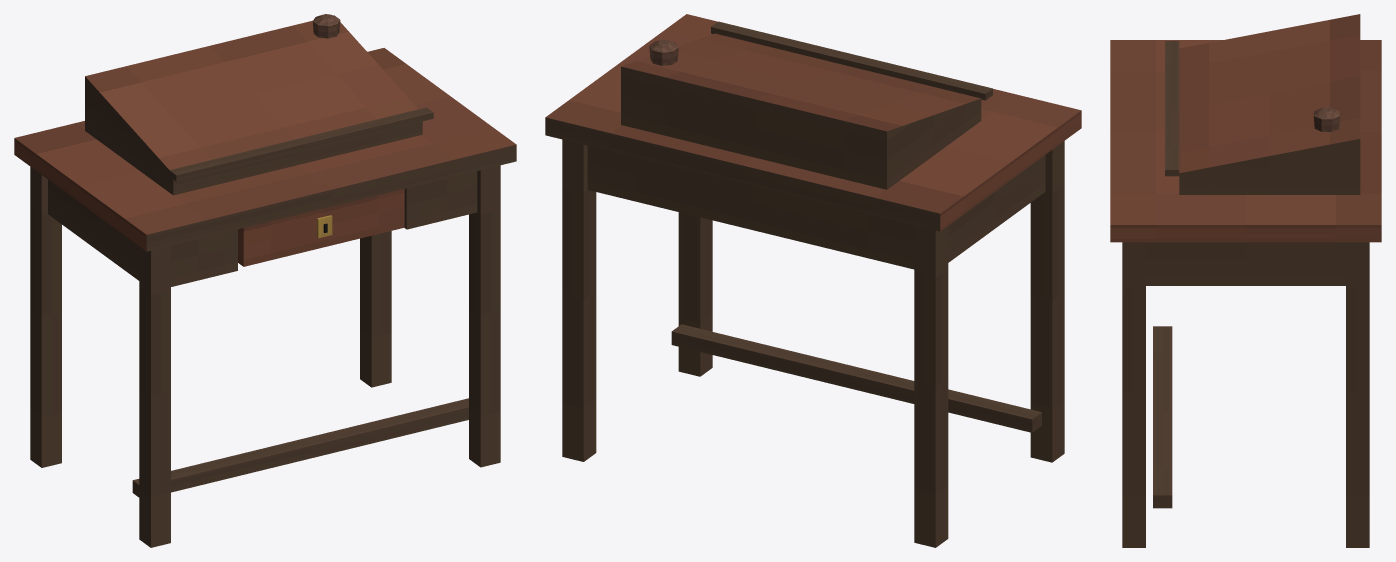
Rendered from writing-desk-locked.glb.
3 views of the same model, side by side, from view 1: azimuth 30°, elevation 25°; view 2: azimuth 150°, elevation 25°; view 3: azimuth 270°, elevation 25° (orthographic). The views are drawn at different scales.
Visible parts, largest first — view 1: desk, drawer; view 2: desk; view 3: desk.
Boxes of the visible parts, x1,y1,x2,y2 form: desk: [14, 14, 516, 547]; drawer: [238, 189, 404, 266]; desk: [545, 14, 1081, 547]; desk: [1110, 14, 1381, 547].
Bounding box in the file's own units: 0.92 × 0.93 × 0.57.
1 material, 1 textured.
